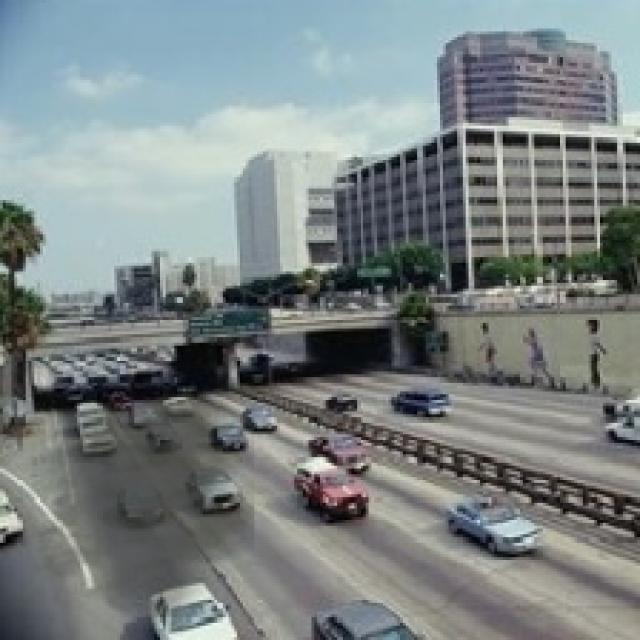Smoke: (8, 380, 255, 617)
